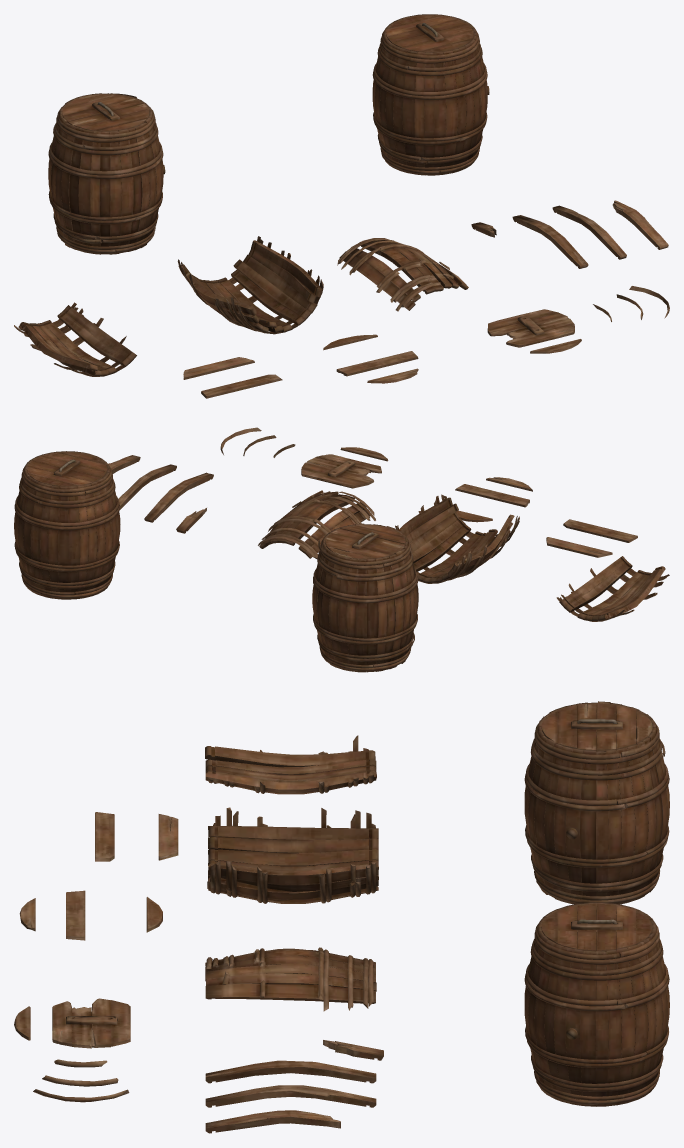
File: barrels.gltf
The picture shows the model from 3 angles, top to bottom: view 1: azimuth 30°, elevation 25°; view 2: azimuth 150°, elevation 25°; view 3: azimuth 270°, elevation 25°; orthographic projection. The views are drawn at different scales.
Visible parts, largest first — view 1: wooden_barrels_01_piece01, wooden_barrels_01_barrel02, wooden_barrels_01_barrel01; view 2: wooden_barrels_01_piece01, wooden_barrels_01_barrel02, wooden_barrels_01_barrel01; view 3: wooden_barrels_01_piece01, wooden_barrels_01_barrel01, wooden_barrels_01_barrel02.
Part boxes in pixels (bbox=[...]): wooden_barrels_01_piece01: bbox=[14, 200, 669, 398]; wooden_barrels_01_barrel02: bbox=[48, 93, 165, 254]; wooden_barrels_01_barrel01: bbox=[372, 14, 489, 175]; wooden_barrels_01_piece01: bbox=[108, 427, 669, 621]; wooden_barrels_01_barrel02: bbox=[312, 523, 418, 672]; wooden_barrels_01_barrel01: bbox=[14, 451, 120, 599]; wooden_barrels_01_piece01: bbox=[14, 735, 383, 1133]; wooden_barrels_01_barrel01: bbox=[524, 902, 669, 1106]; wooden_barrels_01_barrel02: bbox=[524, 701, 669, 904].
Bounding box in the file's own units: 4.44 × 0.9553 × 3.34.
Materials: 3 (3 with a texture image).
